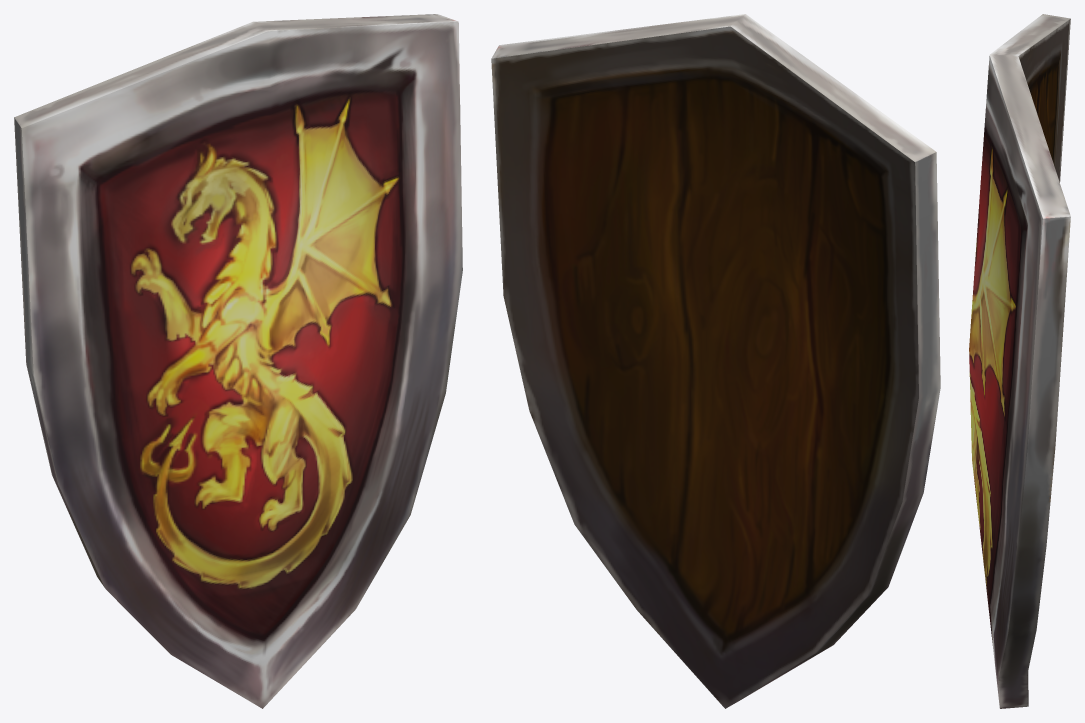
The model's file is armShield.FBX.
3 renders of one model, left to right at view 1: azimuth 30°, elevation 25°; view 2: azimuth 150°, elevation 25°; view 3: azimuth 270°, elevation 25°, orthographic. The views are drawn at different scales.
Visible parts, largest first — view 1: armShield; view 2: armShield; view 3: armShield.
Part boxes in pixels (x1=…): armShield: x1=14, y1=14, x2=462, y2=708; armShield: x1=491, y1=14, x2=940, y2=708; armShield: x1=969, y1=14, x2=1070, y2=708.
Bounding box in the file's own units: 64.49 × 96.12 × 13.56.
